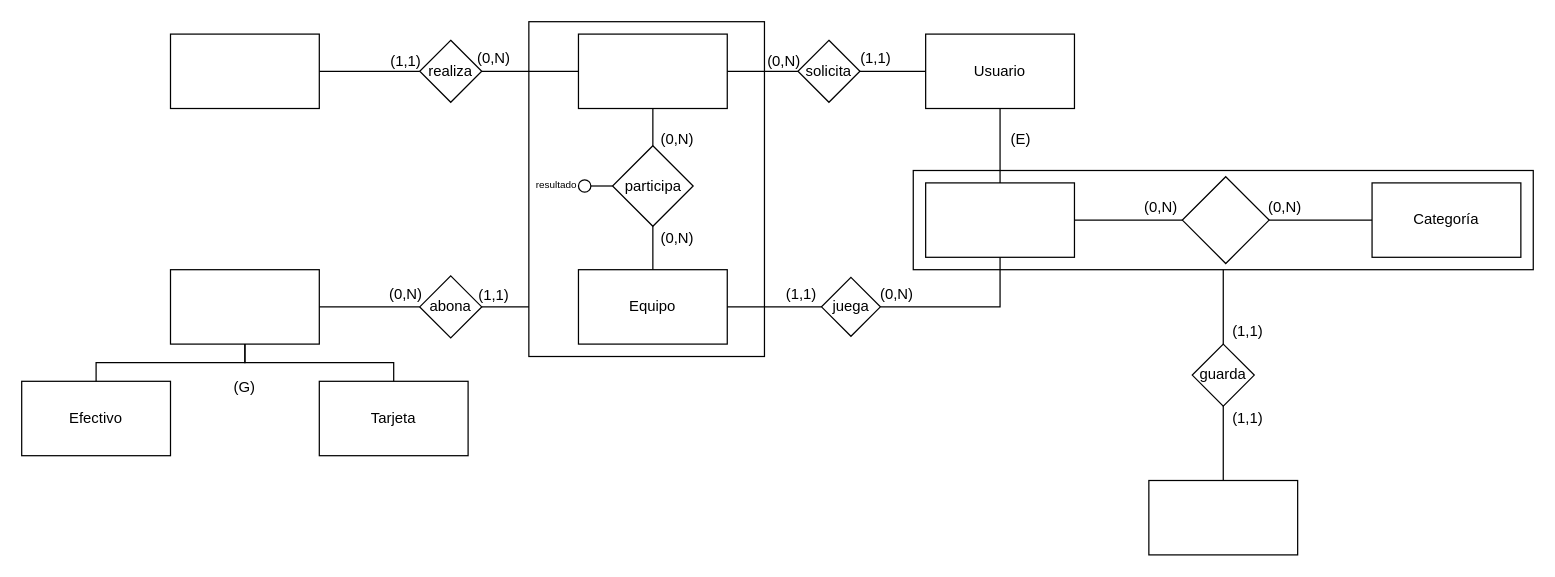
Some shapes in this 1555 by 577 pixel diagram are drawn without their labels. Each missing label, with the box of its shape:
Cancha: (169, 33, 319, 108)
Historial: (1148, 479, 1298, 555)
Jugador: (924, 182, 1074, 257)
Pago: (169, 268, 319, 344)
pertenece: (1181, 175, 1269, 264)
Reserva: (577, 33, 727, 108)
